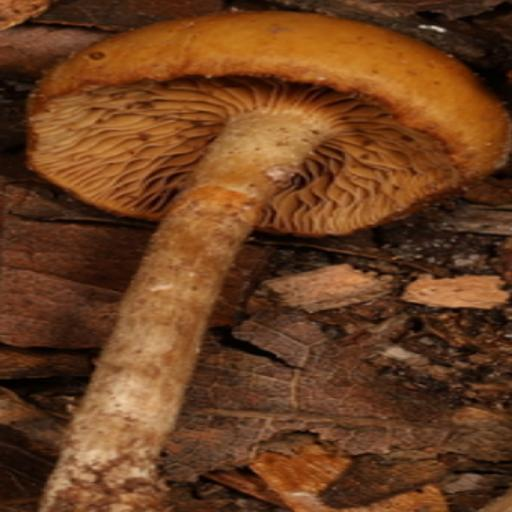mushroom: (29, 4, 504, 371)
